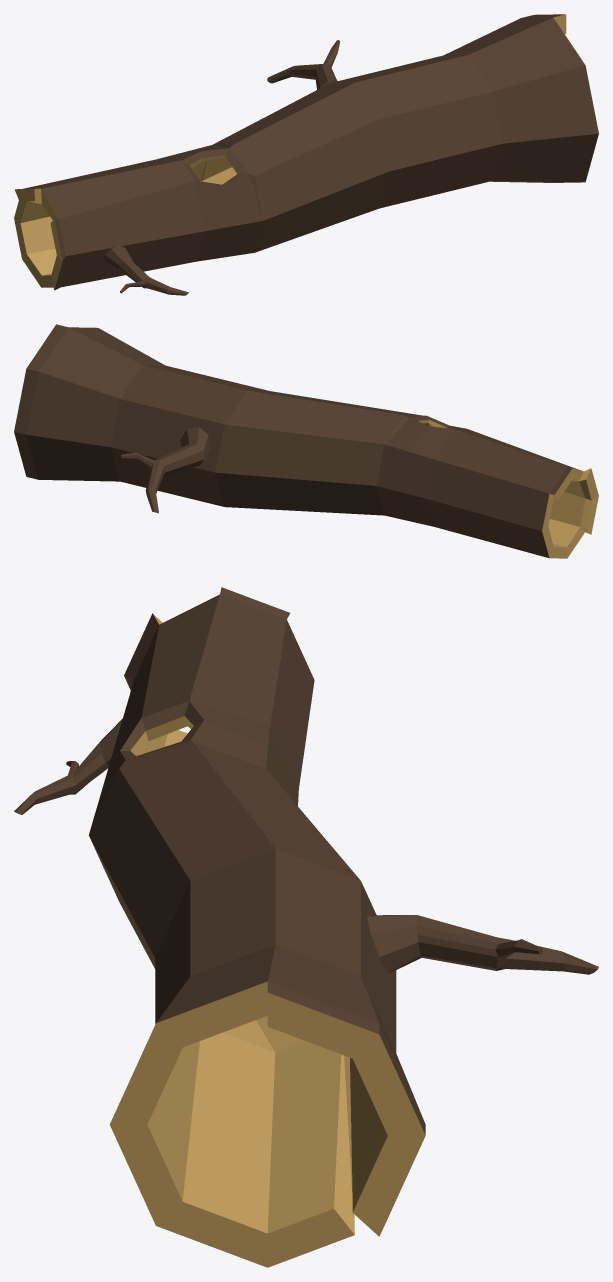
The model's file is Log1.fbx.
3 renders of one model, top to bottom at view 1: azimuth 30°, elevation 25°; view 2: azimuth 150°, elevation 25°; view 3: azimuth 270°, elevation 25°, orthographic. The views are drawn at different scales.
Parts seen in each view (by area): view 1: Circle; view 2: Circle; view 3: Circle.
Part boxes in pixels (x1,y1,x2,y2): Circle: [14, 14, 598, 295]; Circle: [14, 324, 598, 558]; Circle: [14, 587, 598, 1267].
Size of the model in its own units: 399 by 116 by 214.
